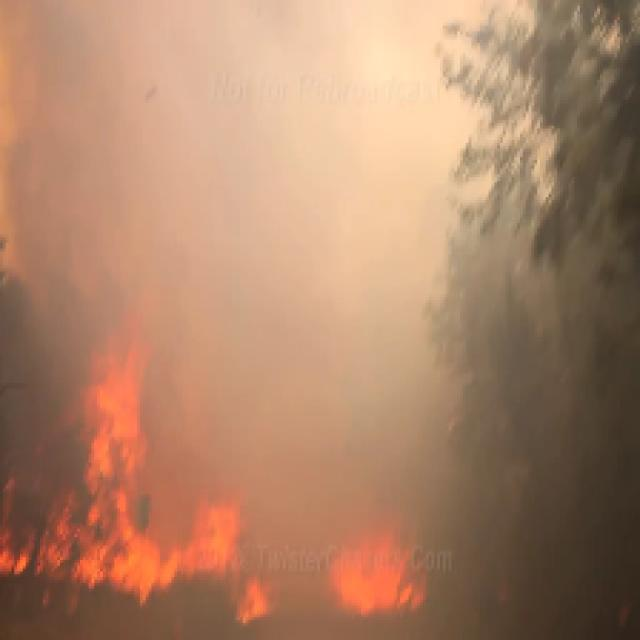Fire: (46, 322, 417, 608)
Smoke: (71, 40, 306, 277)
